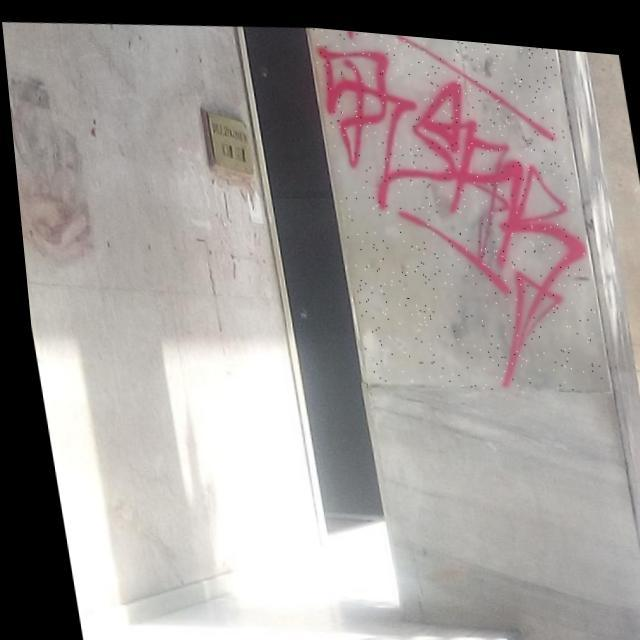-: (311, 21, 603, 398)
